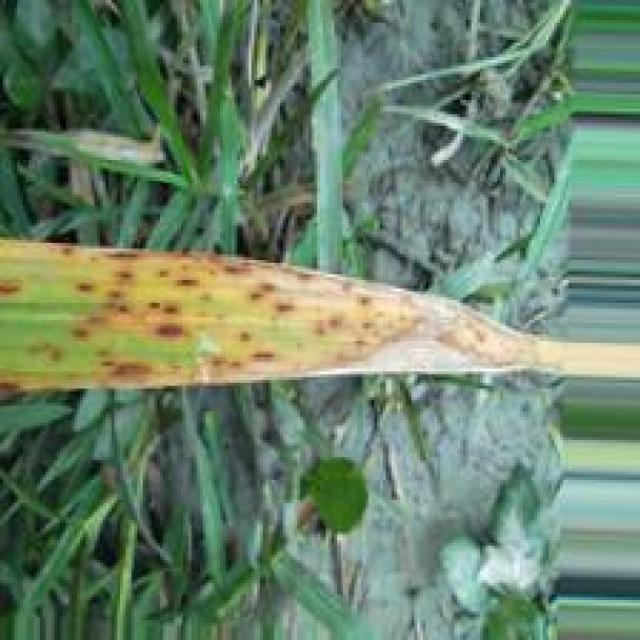Narrow_Brown_Leaf_Spot: (0, 240, 640, 404)
